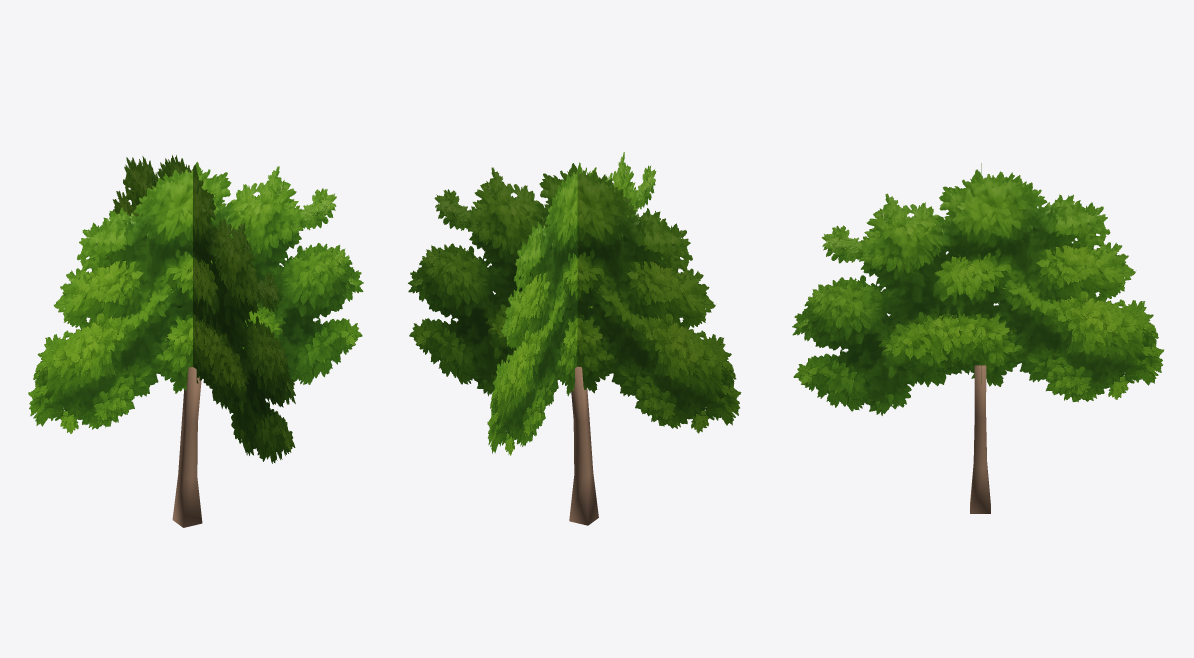
File: tree004.fbx
3 views of the same model, side by side, from view 1: azimuth 30°, elevation 25°; view 2: azimuth 150°, elevation 25°; view 3: azimuth 270°, elevation 25° (orthographic). The views are drawn at different scales.
Visible parts, largest first — view 1: Plane.003, Plane.002, Plane.001; view 2: Plane.003, Plane.002, Plane.001; view 3: Plane.002, Plane.001.
Part boxes in pixels (x1,y1,x2,y2): Plane.003: [28, 162, 363, 433]; Plane.002: [106, 155, 295, 463]; Plane.001: [172, 367, 202, 527]; Plane.003: [408, 163, 741, 433]; Plane.002: [487, 152, 663, 455]; Plane.001: [569, 366, 598, 525]; Plane.002: [792, 169, 1163, 415]; Plane.001: [970, 365, 990, 513].
Bounding box in the file's own units: 502 × 646 × 501.
2 materials, 1 textured.
